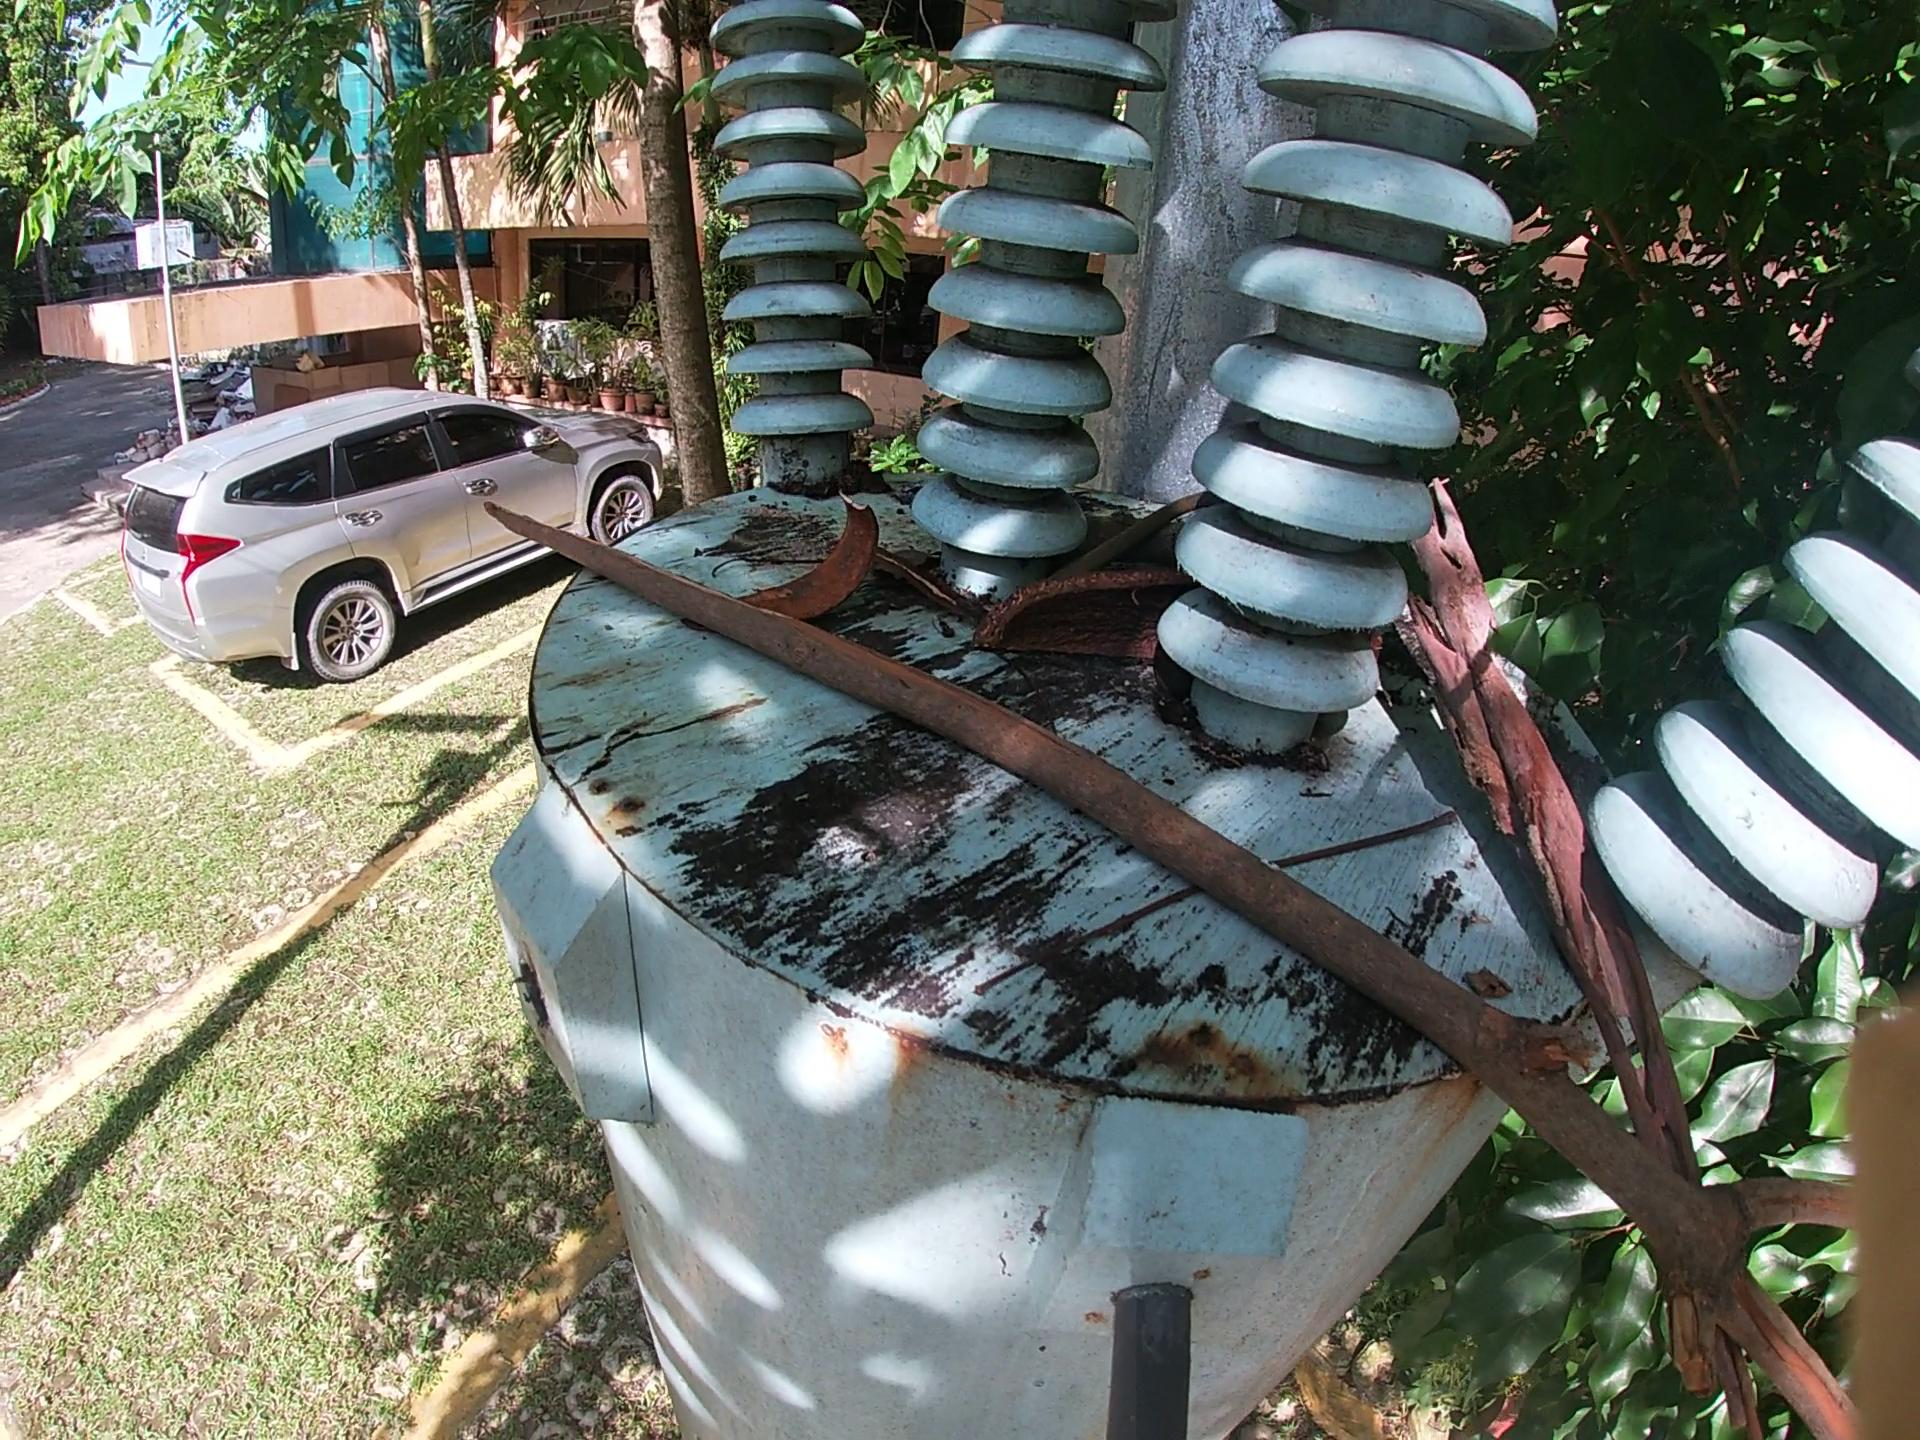mahogany fruit: (977, 572, 1191, 672), (747, 490, 895, 608)
tree branch: (467, 496, 1888, 1425), (1407, 458, 1779, 1434), (945, 802, 1457, 1003), (1061, 490, 1209, 567), (865, 557, 974, 625), (720, 558, 821, 584)
